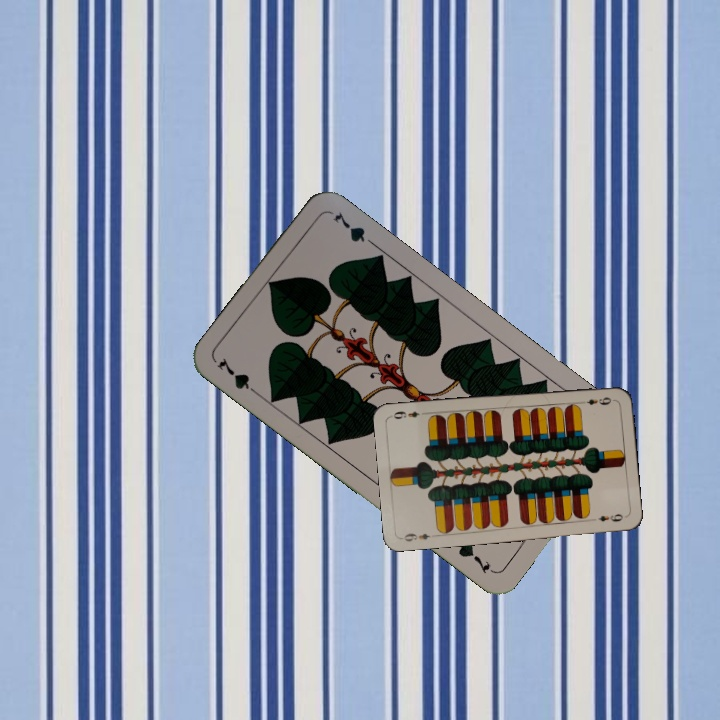E9: (576, 393, 616, 408), (400, 529, 433, 544)
G7: (213, 353, 264, 399)
